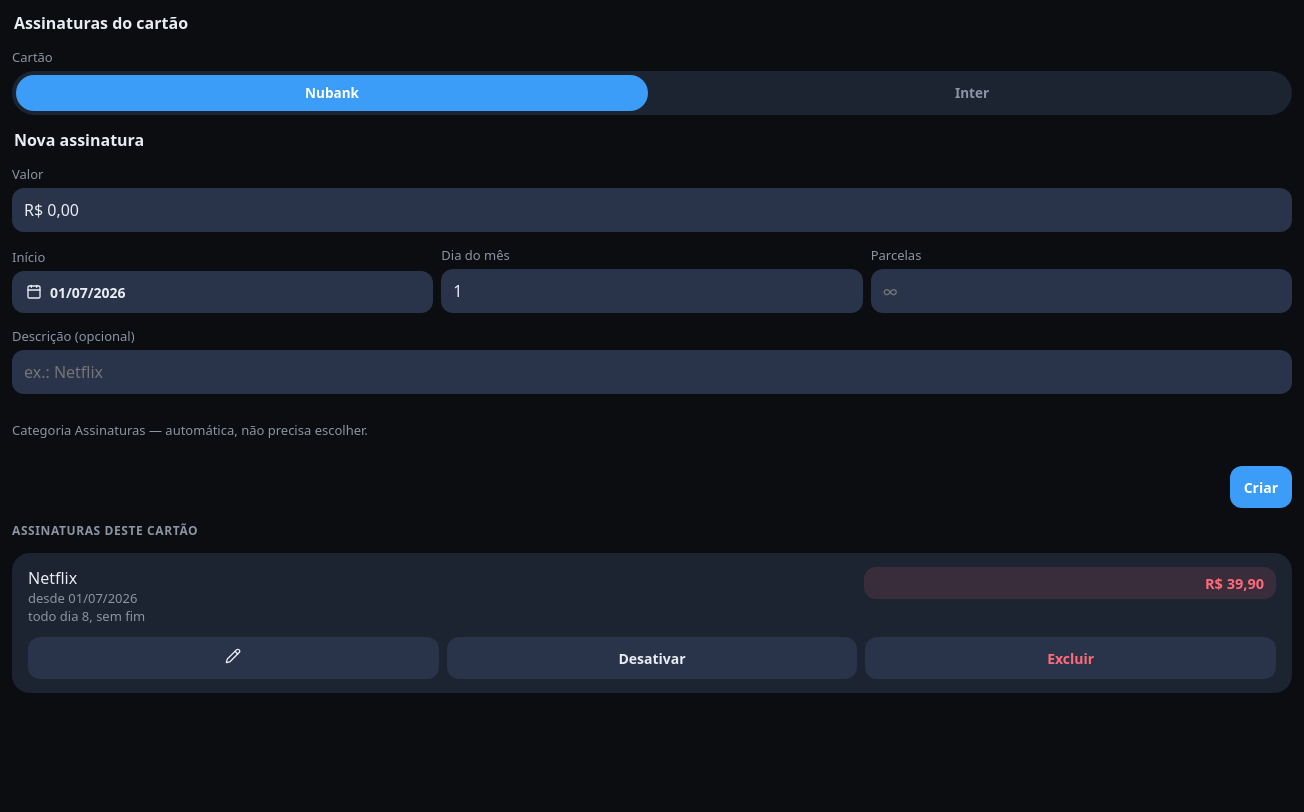
Test: trocar de cartão mostra só as assinaturas daquele cartão
The width and height of the screenshot is (1304, 812).
What coordinates should you click on to do the following:
click the radio button labelled "Nubank"
I would click on:
 (332, 93)
Its box is x1=16 y1=75 x2=648 y2=111.
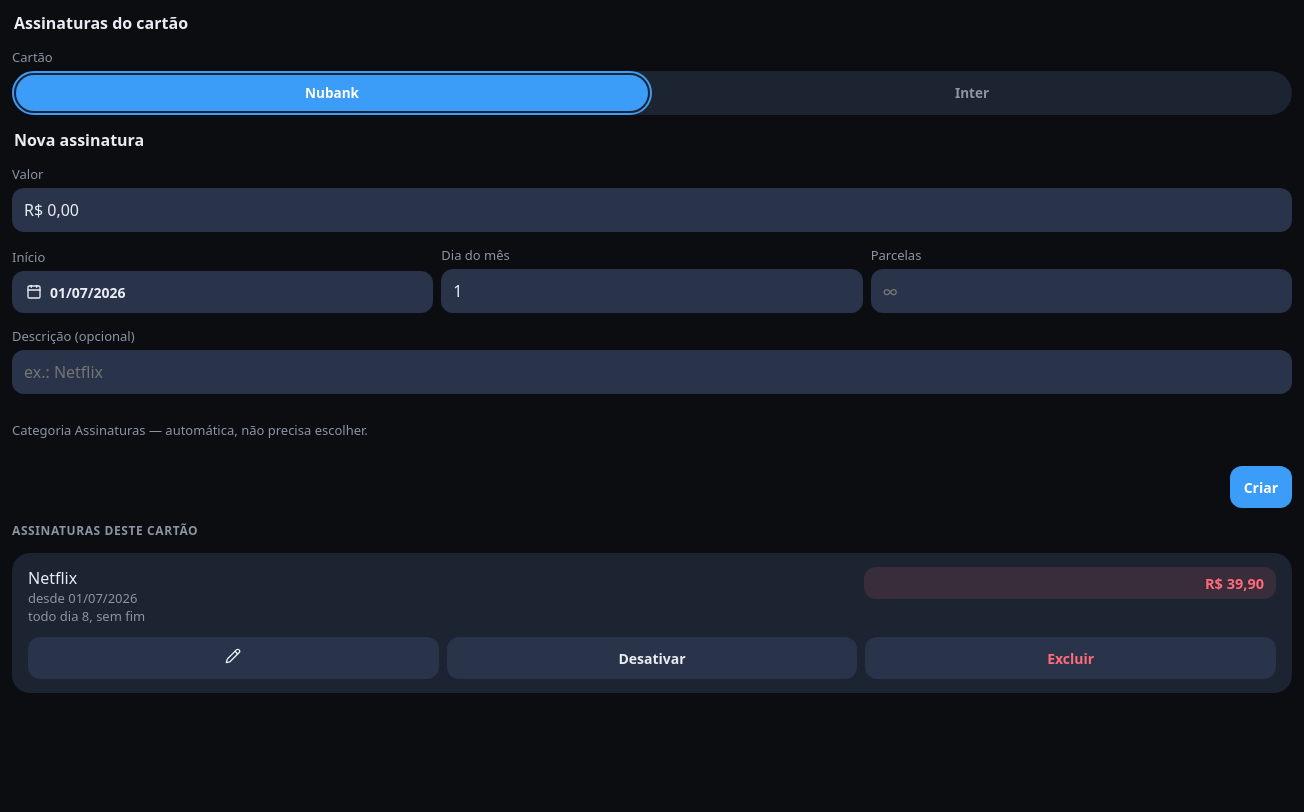
expect the text "Netflix" is shown: met, box x1=28 y1=567 x2=77 y2=589
expect the text "iCloud" is not shown: met
What coordinates should you click on to do the following:
click the radio button labelled "Inter"
I would click on:
 (972, 93)
Its box is x1=656 y1=75 x2=1288 y2=111.
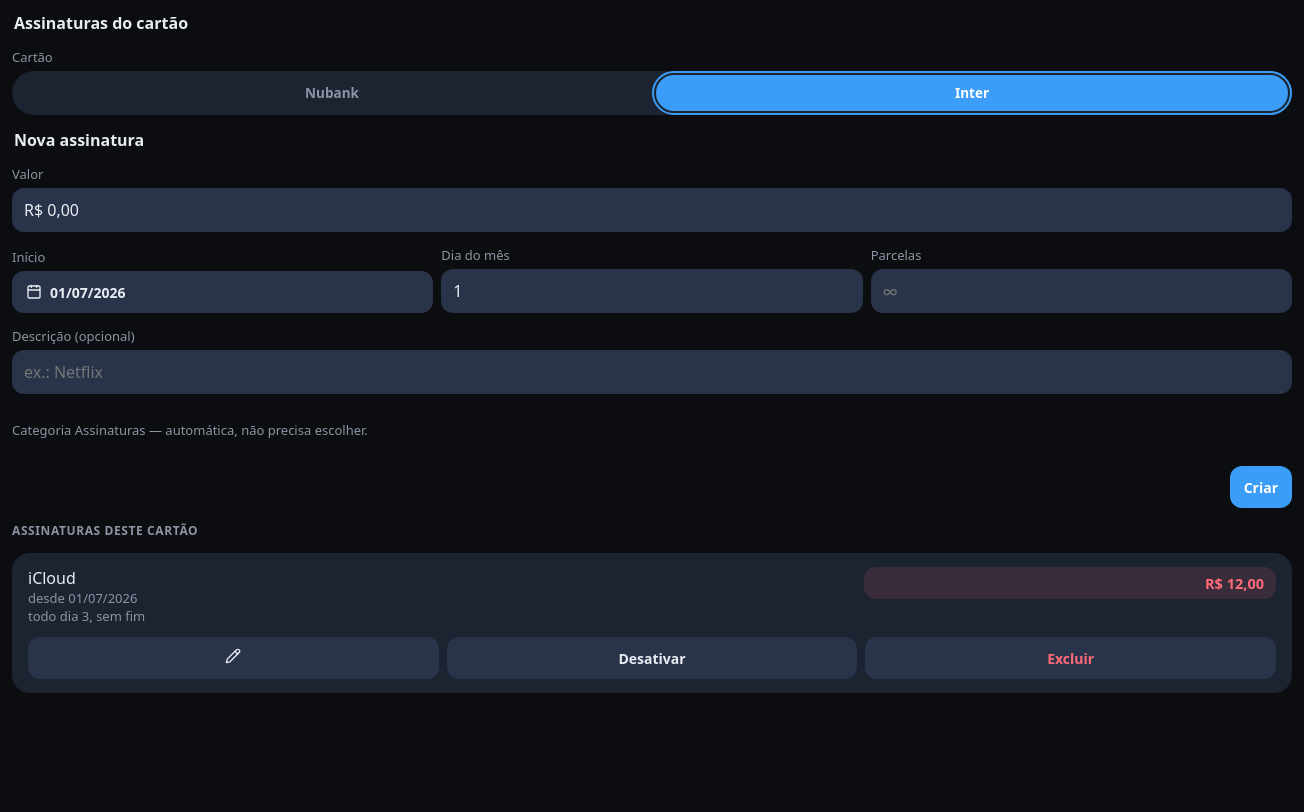
expect the text "iCloud" is shown: met, box x1=28 y1=567 x2=76 y2=589
